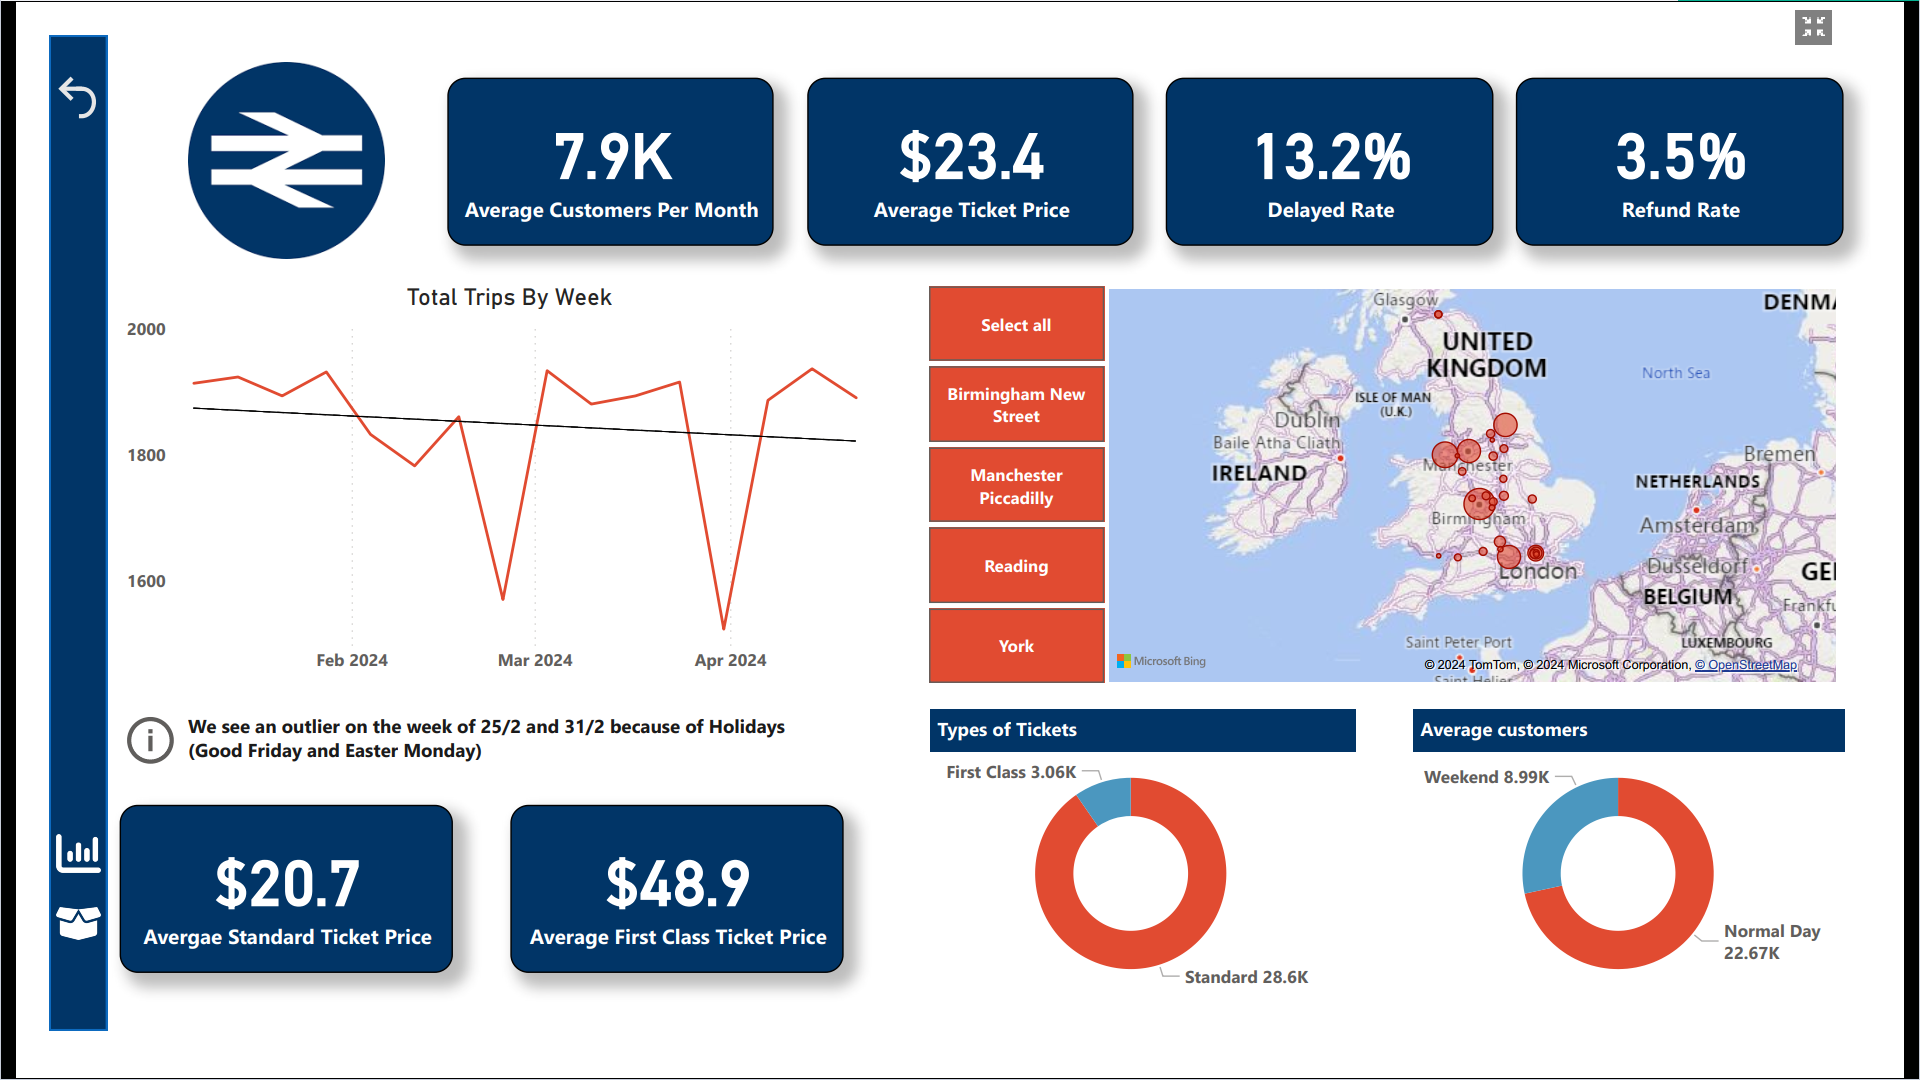

Layout of this report page (visuals, bound fields, positions):
{"tool":"powerbi","page":{"name":"Main Page ","canvas":[1300,720],"ordinal":0},"visuals":[{"type":"card","title":"Return Rate","fields":{"Values":["Measure Table.Refund Rate"]},"box":[1048.3,23.3,233.3,120],"z":0,"group":"g1"},{"type":"card","title":"Return Rate","fields":{"Values":["Measure Table.Avg First Class Price"]},"box":[328.7,549.5,238.6,120],"z":0},{"type":"card","title":"Return Rate","fields":{"Values":["Measure Table.Average Ticket Price"]},"box":[541.7,23.3,233.3,120],"z":1000,"group":"g1"},{"type":"card","title":"Return Rate","fields":{"Values":["Measure Table.Avg Standard Price"]},"box":[50.1,549.5,238,120],"z":1000},{"type":"group","id":"g1","title":"Group 1","box":[285,23.3,996.7,120],"z":2000},{"type":"card","title":"Return Rate","fields":{"Values":["Measure Table.Average Trips Per Month"]},"box":[285,23.3,233.3,120],"z":2000,"group":"g1"},{"type":"card","title":"Return Rate","fields":{"Values":["Measure Table.Delayed Rate"]},"box":[798.3,23.3,233.3,120],"z":3000,"group":"g1"},{"type":"map","fields":{"Category":["Railway.Arrival Destination"],"Size":["Measure Table.Total Trips"]},"box":[751.7,175,528.3,290],"z":3000},{"type":"slicer","fields":{"Values":["Railway.Arrival Destination"]},"box":[608.3,175,165,290],"z":4000},{"type":"donutChart","fields":{"Y":["CountNonNull(Railway.Ticket Type)"],"Category":["Railway.Weekend"]},"box":[960,515,320,190],"z":5000},{"type":"donutChart","fields":{"Category":["Railway.Ticket Class"],"Y":["CountNonNull(Railway.Ticket Class)"]},"box":[613.3,515,320,190],"z":6000},{"type":"lineChart","title":"Total Trips By Week ","fields":{"Y":["Measure Table.Total Trips"],"Category":["Railway.Start of Week Journey"]},"box":[51.7,175,556.7,290],"z":7000},{"type":"textbox","box":[94.4,478.6,512.9,47.1],"z":8000},{"type":"actionButton","box":[50.1,478.6,44.3,47.1],"z":9000},{"type":"textbox","box":[628.7,481.4,304.3,30],"z":10000},{"type":"textbox","box":[974.4,481.4,307.1,30],"z":11000},{"type":"image","box":[50,15,236.7,146.7],"z":12000},{"type":"shape","box":[0,0,41,710],"z":13000},{"type":"image","box":[0,560,41.4,47.1],"z":14000},{"type":"actionButton","box":[0,24,40,40],"z":15000},{"type":"image","box":[0,608.6,41.4,48.6],"z":16000}]}

Visuals, with their boxes on the page's 1300x720 design canvas (x1, y1, x2, y2). These are canvas units, not pixel positions in the 1920x1080 screenshot, which may show the page scaled, cropped or inside an application window:
"Return Rate" card: [1048,23,1282,143]
"Return Rate" card: [329,550,567,670]
"Return Rate" card: [542,23,775,143]
"Return Rate" card: [50,550,288,670]
"Group 1" group: [285,23,1282,143]
"Return Rate" card: [285,23,518,143]
"Return Rate" card: [798,23,1032,143]
map - Railway.Arrival Destination x Measure Table.Total Trips: [752,175,1280,465]
slicer - Railway.Arrival Destination: [608,175,773,465]
donutChart - CountNonNull(Railway.Ticket Type) x Railway.Weekend: [960,515,1280,705]
donutChart - Railway.Ticket Class x CountNonNull(Railway.Ticket Class): [613,515,933,705]
"Total Trips By Week " lineChart: [52,175,608,465]
textbox: [94,479,607,526]
actionButton: [50,479,94,526]
textbox: [629,481,933,511]
textbox: [974,481,1282,511]
image: [50,15,287,162]
shape: [0,0,41,710]
image: [0,560,41,607]
actionButton: [0,24,40,64]
image: [0,609,41,657]
